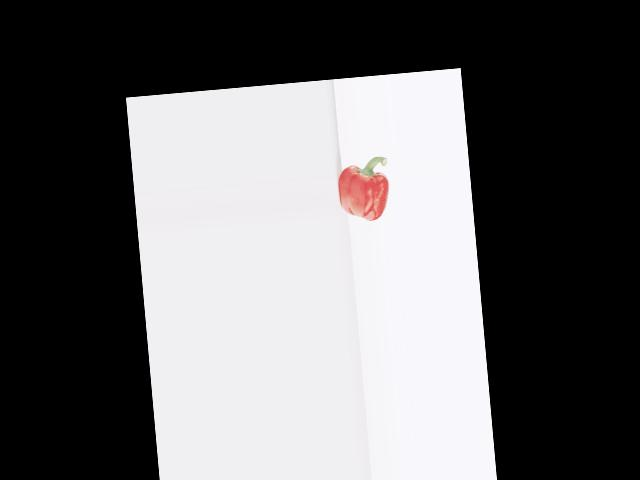bell_pepper: (333, 149, 394, 226)
